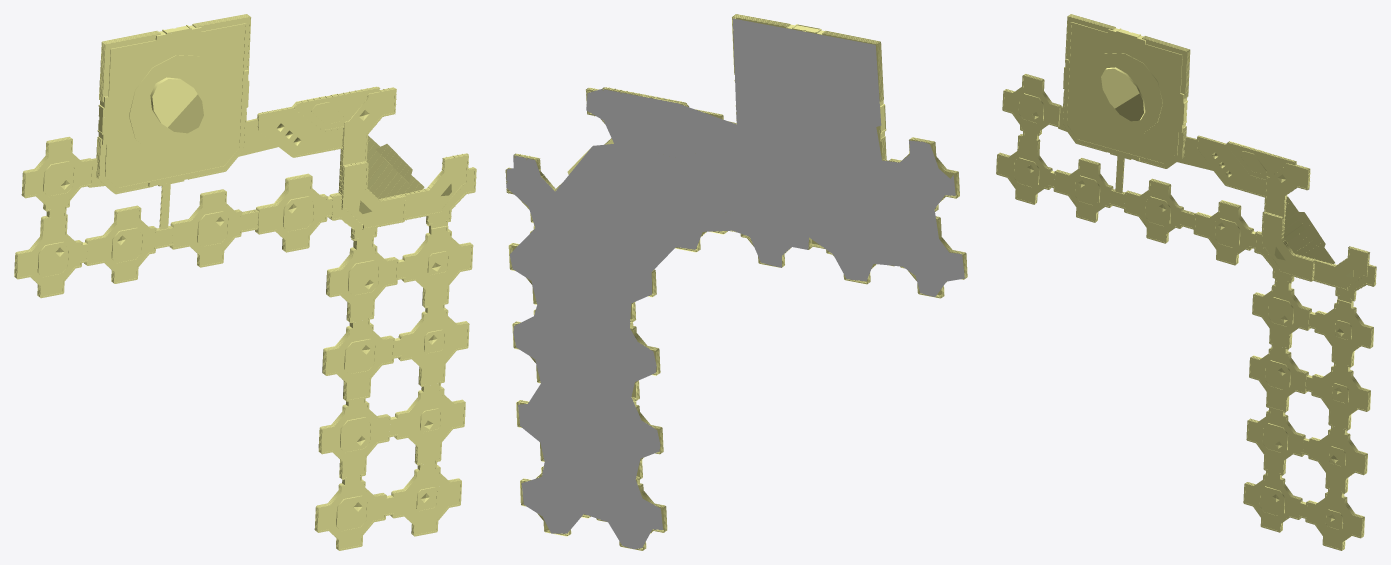
The picture shows the model from 3 angles, left to right: view 1: azimuth 30°, elevation 25°; view 2: azimuth 150°, elevation 25°; view 3: azimuth 330°, elevation 25°; orthographic projection. The views are drawn at different scales.
Bounding box in the file's own units: 1741 × 2058 × 44.85.
